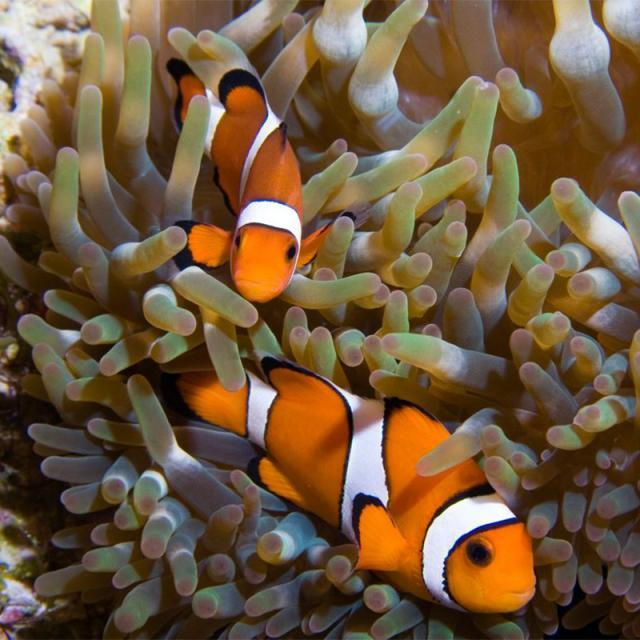ClownFish: (163, 350, 537, 620), (166, 54, 334, 302)
